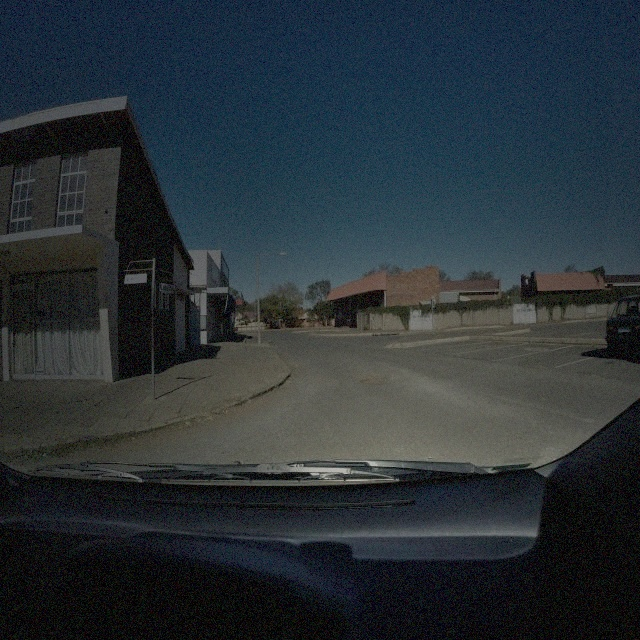pothole: (359, 378, 384, 386)
